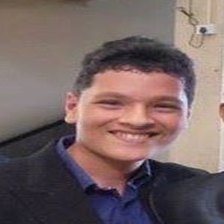no_mask: (81, 69, 188, 163)
